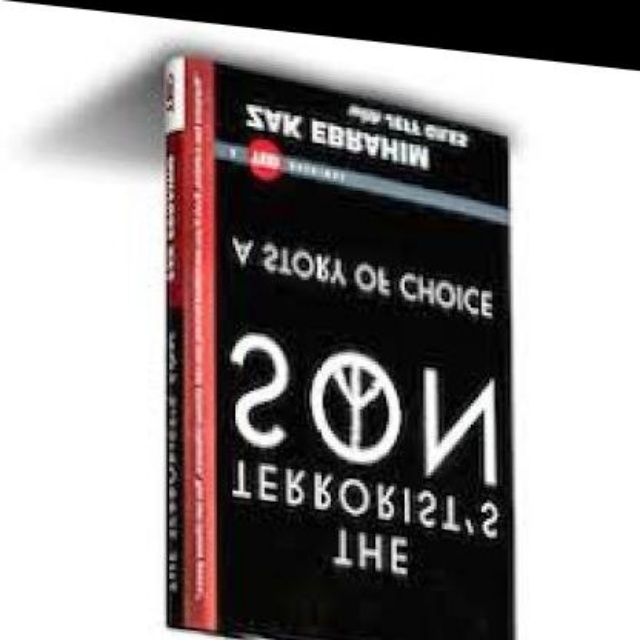trash: (165, 57, 511, 638)
